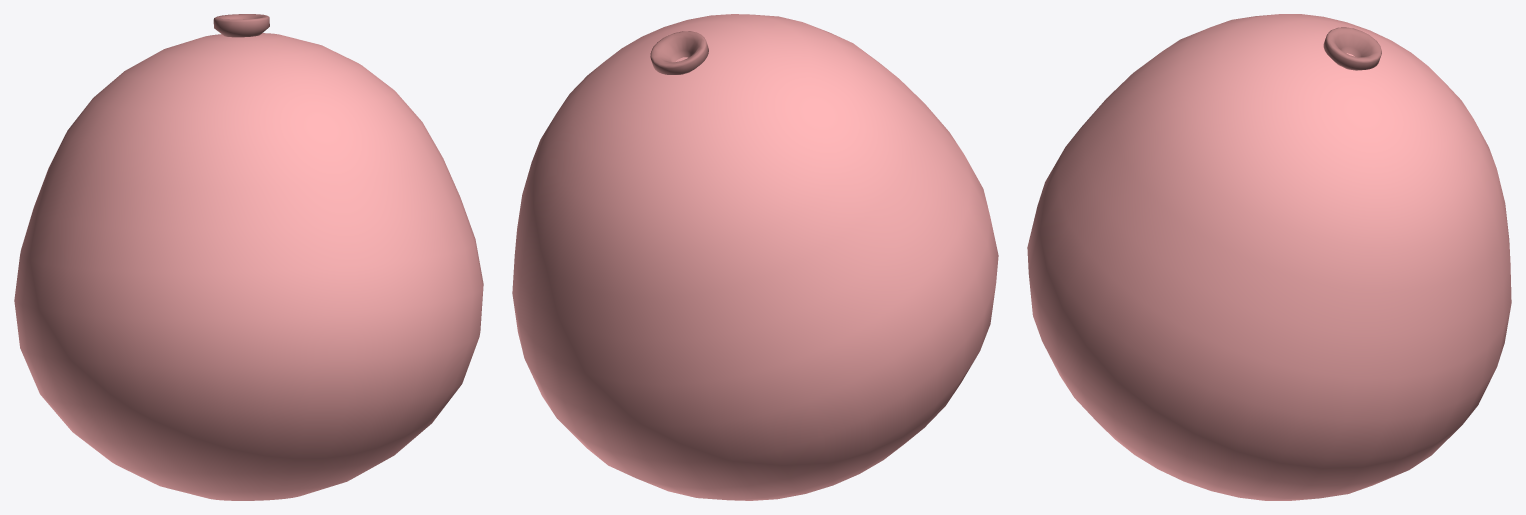
The model's file is Pink Balloon.fbx.
3 views of the same model, side by side, from view 1: azimuth 30°, elevation 25°; view 2: azimuth 150°, elevation 25°; view 3: azimuth 270°, elevation 25° (orthographic). The views are drawn at different scales.
Visible parts, largest first — view 1: Pink_B; view 2: Pink_B; view 3: Pink_B.
Part boxes in pixels (bbox=[...]): Pink_B: bbox=[14, 14, 483, 500]; Pink_B: bbox=[512, 14, 998, 500]; Pink_B: bbox=[1027, 14, 1511, 500].
Size of the model in its own units: 105 by 108 by 104.
